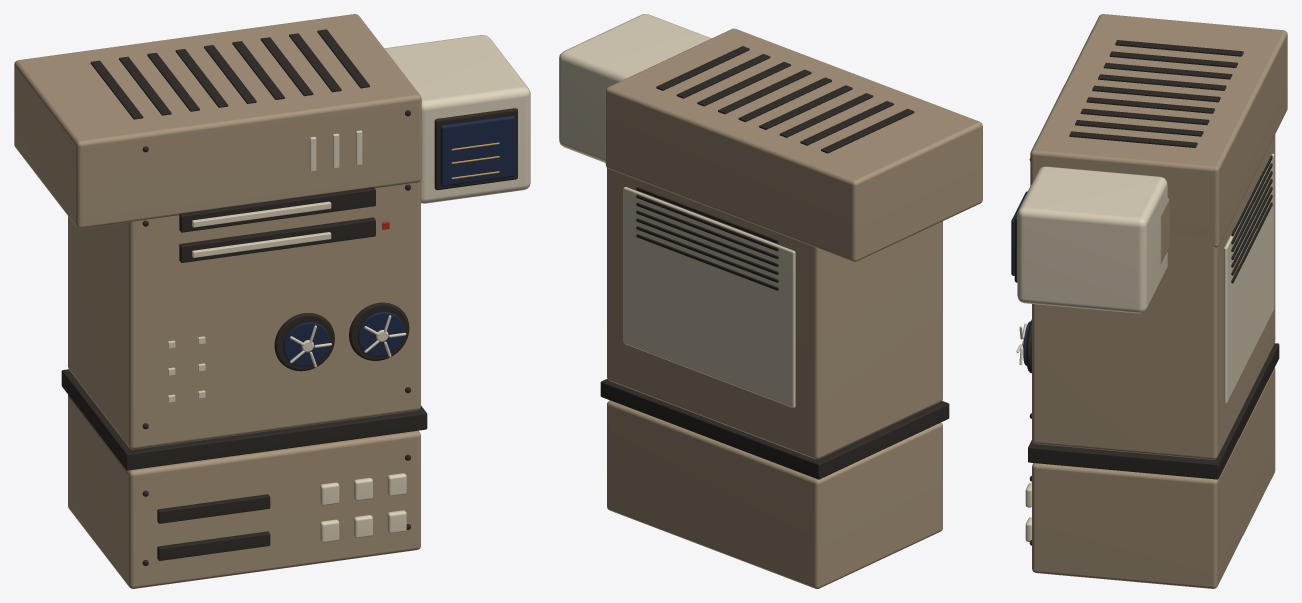
File: asteroid-tracker.glb
3 renders of one model, left to right at view 1: azimuth 30°, elevation 25°; view 2: azimuth 150°, elevation 25°; view 3: azimuth 270°, elevation 25°, orthographic. The views are drawn at different scales.
Visible parts, largest first — view 1: Main storage and cooling cabinet, Upper overhanging electronics case, Lower calibration chassis, CRT deep monitor housing, Dark service separation, Rounded rectangular dark CRT screen, Horizontal storage bay, Horizontal storage bay.001, Lower calibration slot, Lower calibration slot.001, CRT black recessed aperture, Twin fan navy rotor (+14 smaller); view 2: Upper overhanging electronics case, Main storage and cooling cabinet, Lower calibration chassis, Rear service panel, CRT deep monitor housing, Dark service separation, Top cooling grille, Top cooling grille.004, Top cooling grille.007, Top cooling grille.008, Top cooling grille.003, Top cooling grille.001 (+10 smaller); view 3: Main storage and cooling cabinet, Upper overhanging electronics case, Lower calibration chassis, CRT deep monitor housing, Rear service panel, Dark service separation, Top cooling grille.004, Top cooling grille.006, Top cooling grille.001, Top cooling grille.002, Top cooling grille.007, Top cooling grille.005 (+4 smaller).
Boxes of the visible parts, x1,y1,x2,y2 form: Main storage and cooling cabinet: (68, 181, 420, 449); Upper overhanging electronics case: (14, 14, 421, 228); Lower calibration chassis: (68, 395, 420, 588); CRT deep monitor housing: (384, 35, 530, 203); Dark service separation: (61, 369, 427, 470); Rounded rectangular dark CRT screen: (440, 115, 514, 186); Horizontal storage bay: (179, 217, 375, 262); Horizontal storage bay.001: (179, 187, 375, 232); Lower calibration slot: (157, 531, 270, 560); Lower calibration slot.001: (157, 494, 270, 523); CRT black recessed aperture: (434, 108, 517, 190); Twin fan navy rotor: (283, 322, 329, 366); Upper overhanging electronics case: (605, 28, 982, 261); Main storage and cooling cabinet: (607, 168, 942, 459); Lower calibration chassis: (607, 400, 942, 588); Rear service panel: (623, 187, 795, 407); CRT deep monitor housing: (559, 14, 711, 162); Dark service separation: (600, 379, 949, 479); Top cooling grille: (821, 108, 914, 153); Top cooling grille.004: (738, 77, 831, 122); Top cooling grille.007: (676, 54, 770, 98); Top cooling grille.008: (656, 46, 749, 90); Top cooling grille.003: (759, 85, 852, 129); Top cooling grille.001: (800, 101, 893, 145); Main storage and cooling cabinet: (1032, 134, 1275, 459); Upper overhanging electronics case: (1030, 14, 1287, 247); Lower calibration chassis: (1032, 367, 1275, 588); CRT deep monitor housing: (1017, 166, 1167, 313); Rear service panel: (1223, 153, 1274, 403); Dark service separation: (1028, 343, 1279, 479); Top cooling grille.004: (1092, 85, 1220, 102); Top cooling grille.006: (1080, 108, 1209, 125); Top cooling grille.001: (1109, 51, 1237, 67); Top cooling grille.002: (1103, 63, 1232, 79); Top cooling grille.007: (1075, 120, 1203, 136); Top cooling grille.005: (1086, 97, 1214, 113).
Bounding box in the file's own units: 2.69 × 2.71 × 1.6.
